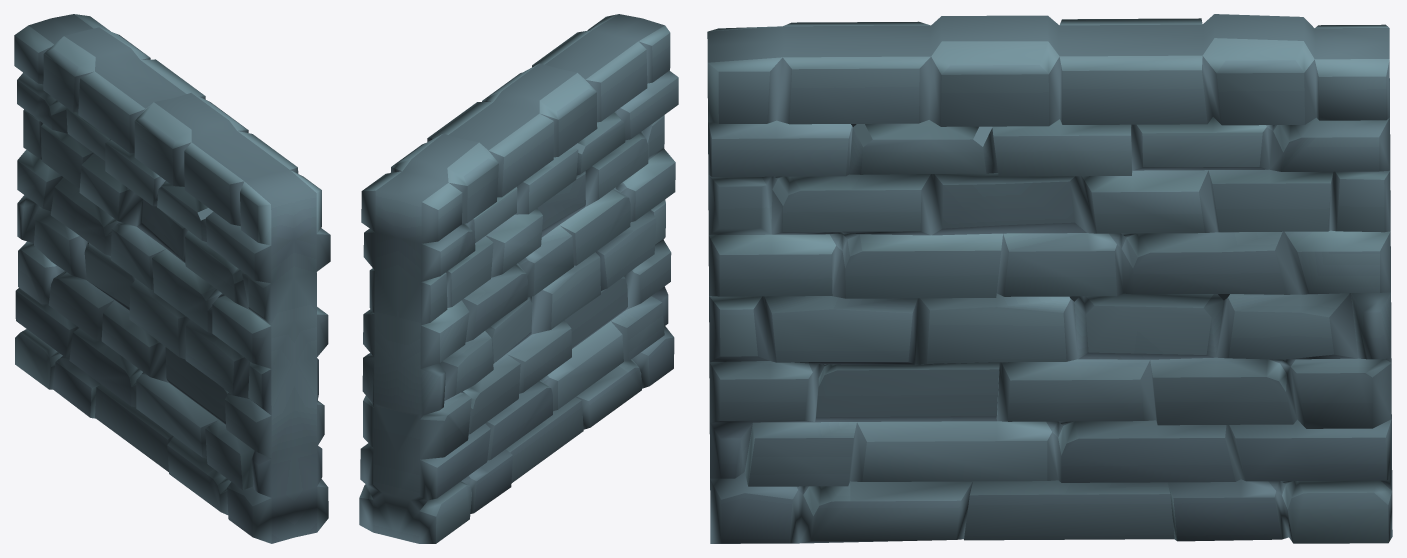
File: Modular_Dungeon_Wall.fbx
3 renders of one model, left to right at view 1: azimuth 30°, elevation 25°; view 2: azimuth 150°, elevation 25°; view 3: azimuth 270°, elevation 25°, orthographic. The views are drawn at different scales.
Visible parts, largest first — view 1: Wall; view 2: Wall; view 3: Wall.
Boxes of the visible parts, x1=… form: Wall: x1=14, y1=14, x2=330, y2=543; Wall: x1=359, y1=14, x2=678, y2=543; Wall: x1=707, y1=14, x2=1392, y2=543.
Size of the model in its own units: 1.23 by 5.18 by 6.42.
1 material, 1 textured.
